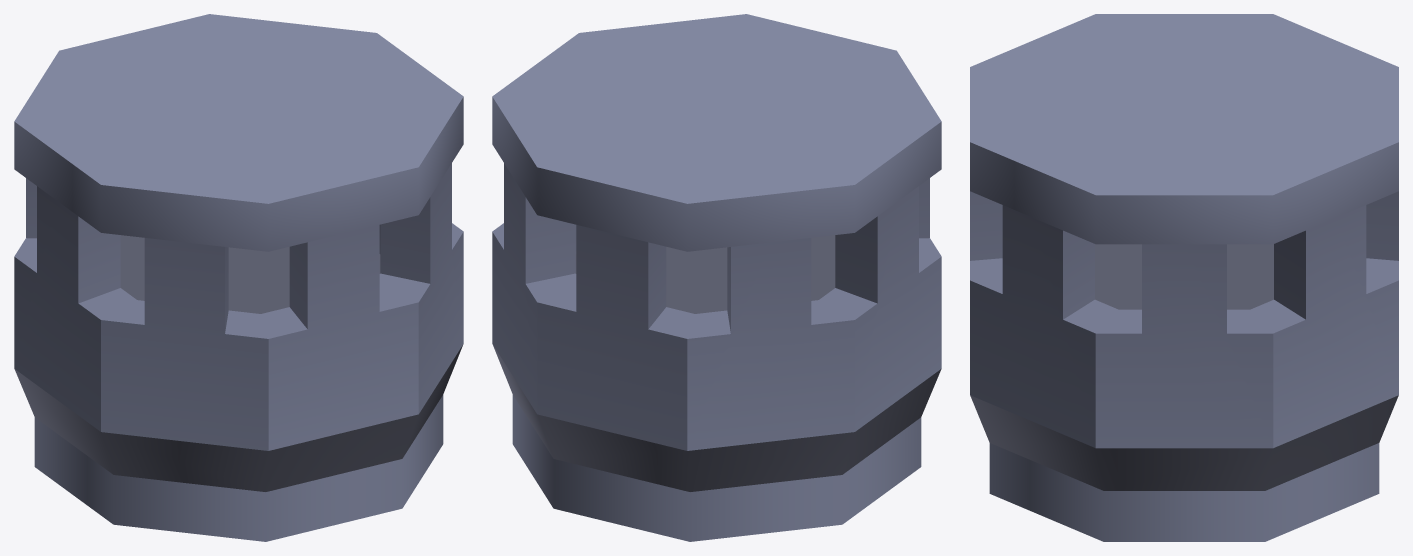
The model's file is watchtower.fbx.
The picture shows the model from 3 angles, left to right: view 1: azimuth 30°, elevation 25°; view 2: azimuth 150°, elevation 25°; view 3: azimuth 270°, elevation 25°; orthographic projection. The views are drawn at different scales.
Visible parts, largest first — view 1: tower-watch; view 2: tower-watch; view 3: tower-watch.
Part boxes in pixels (x1=…): tower-watch: x1=14, y1=14, x2=463, y2=541; tower-watch: x1=492, y1=14, x2=941, y2=541; tower-watch: x1=970, y1=14, x2=1398, y2=541.
Bounding box in the file's own units: 7 × 6.39 × 7.
